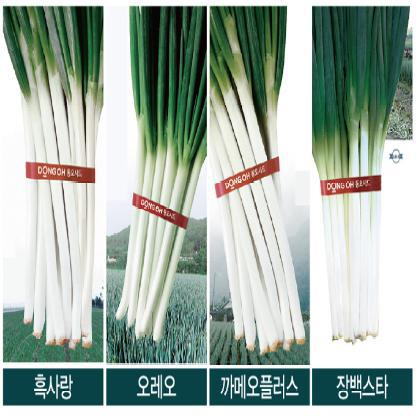green onion: (204, 0, 306, 358), (5, 0, 100, 358), (312, 0, 408, 344), (118, 0, 206, 343)
